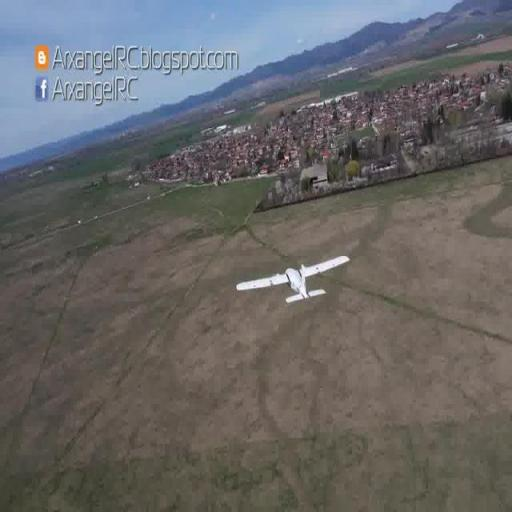uav: (237, 250, 352, 310)
